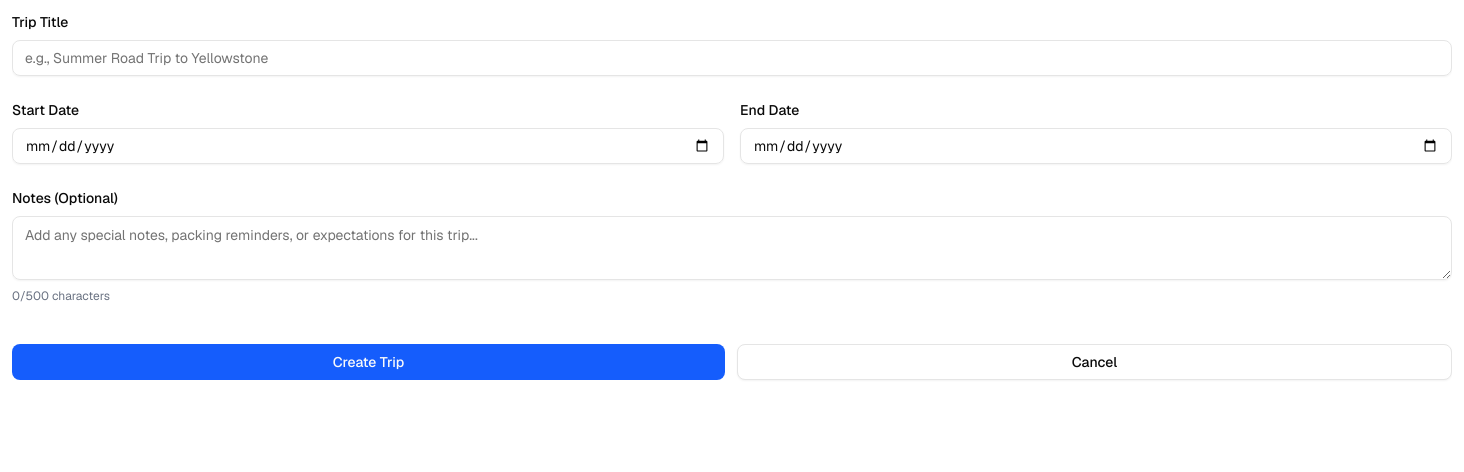
Scenario: TripForm Component › Form Validation › should show validation error for empty title
What coordinates should you click on to do the following:
click the button "Create Trip"
I would click on:
 (368, 362)
Its box is [12,344,725,380].
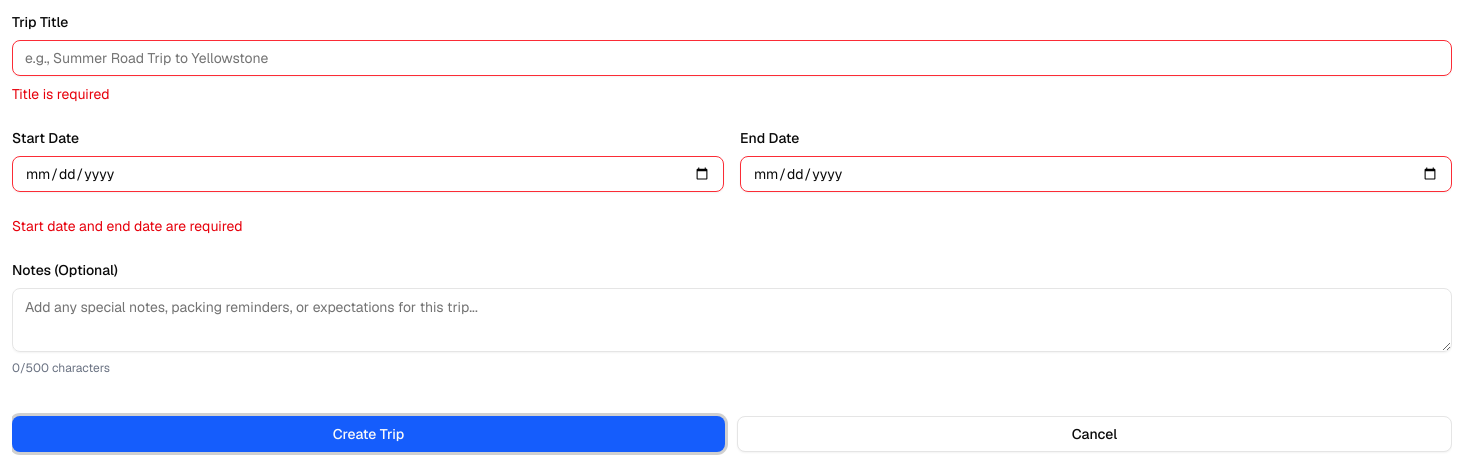
expect the text "Title is required" is shown: met, box [12,85,110,103]
